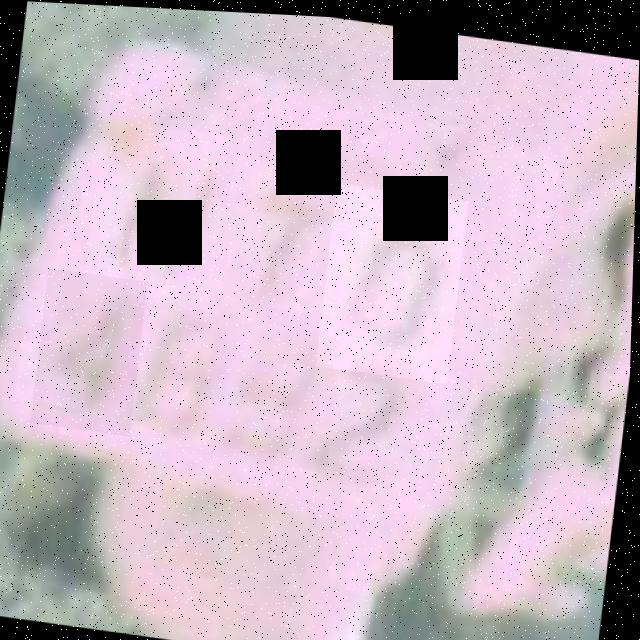0: (103, 276, 248, 456)
2: (283, 318, 441, 509)
4: (33, 267, 150, 435)
5: (202, 297, 346, 468)
N: (84, 117, 230, 308)
O: (317, 178, 470, 379)
